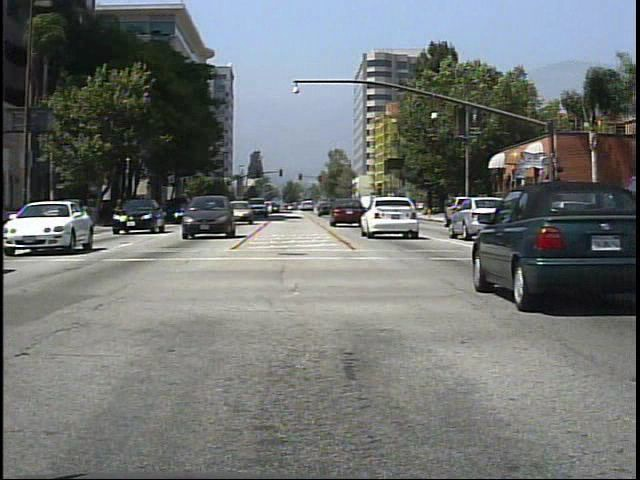person: (524, 194, 543, 229), (490, 189, 507, 224)
